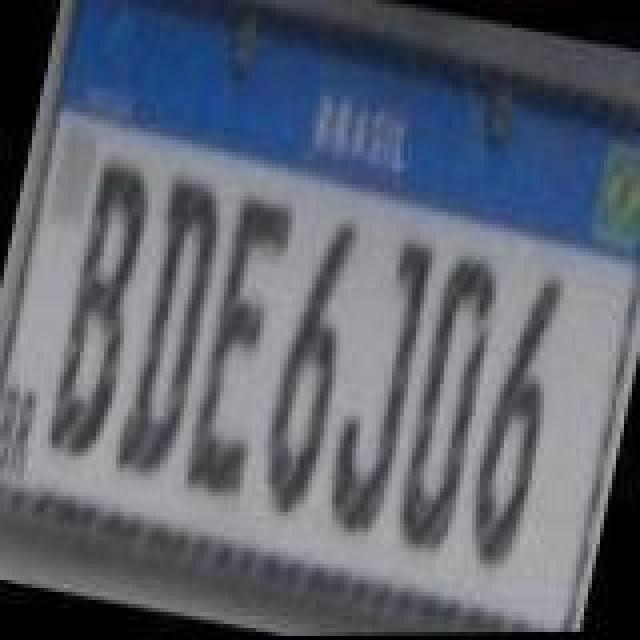6: (250, 208, 374, 520), (456, 268, 576, 576)
B: (36, 152, 164, 468)
D: (104, 166, 232, 486), (390, 254, 506, 558)
E: (178, 194, 302, 506)
J: (312, 232, 440, 544)
